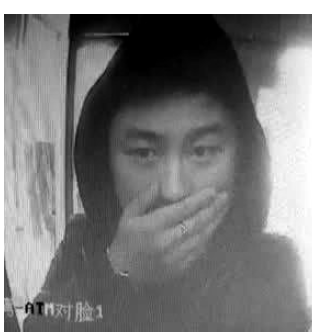face: (106, 85, 237, 261)
